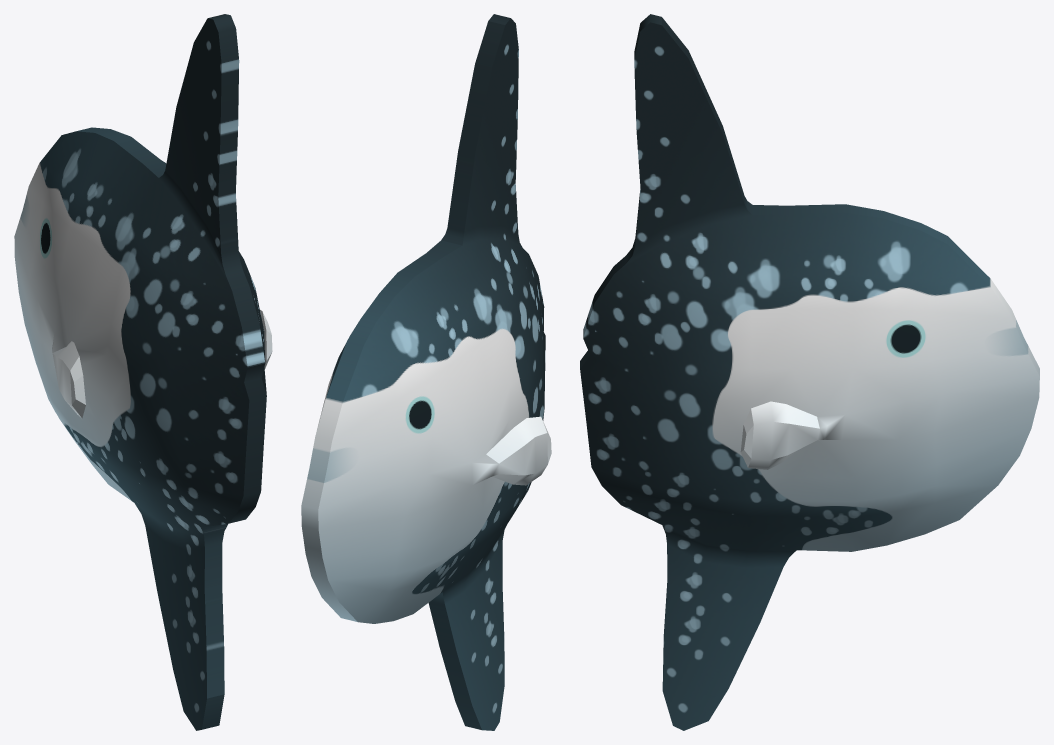
The model's file is molaMola.fbx.
3 views of the same model, side by side, from view 1: azimuth 30°, elevation 25°; view 2: azimuth 150°, elevation 25°; view 3: azimuth 270°, elevation 25° (orthographic). The views are drawn at different scales.
Visible parts, largest first — view 1: MolaMola; view 2: MolaMola; view 3: MolaMola.
Boxes of the visible parts, x1=… form: MolaMola: x1=14, y1=14, x2=272, y2=730; MolaMola: x1=301, y1=14, x2=551, y2=730; MolaMola: x1=580, y1=14, x2=1039, y2=730.
Size of the model in its own units: 2.14 by 7.49 by 4.4.
